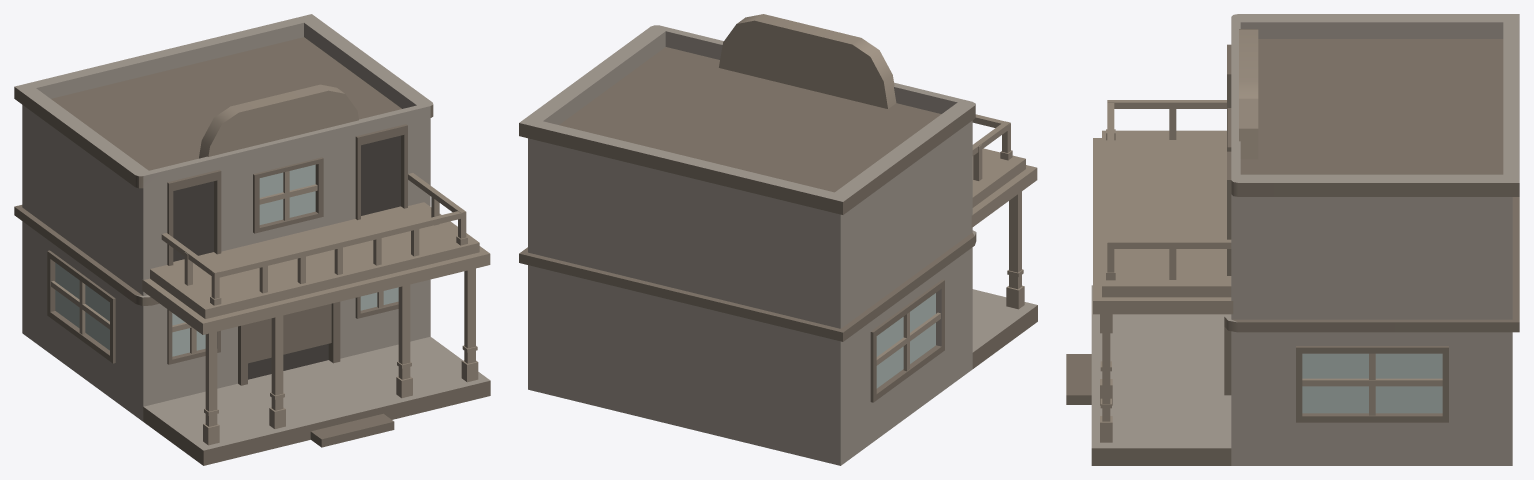
File: Casita6.fbx
3 renders of one model, left to right at view 1: azimuth 30°, elevation 25°; view 2: azimuth 150°, elevation 25°; view 3: azimuth 270°, elevation 25°, orthographic. The views are drawn at different scales.
Parts seen in each view (by area): view 1: Casita6; view 2: Casita6; view 3: Casita6.
Boxes of the visible parts, bbox=[...] form: Casita6: bbox=[14, 14, 490, 465]; Casita6: bbox=[519, 14, 1037, 465]; Casita6: bbox=[1066, 14, 1519, 465].
Size of the model in its own units: 57.22 by 51.98 by 64.91.
